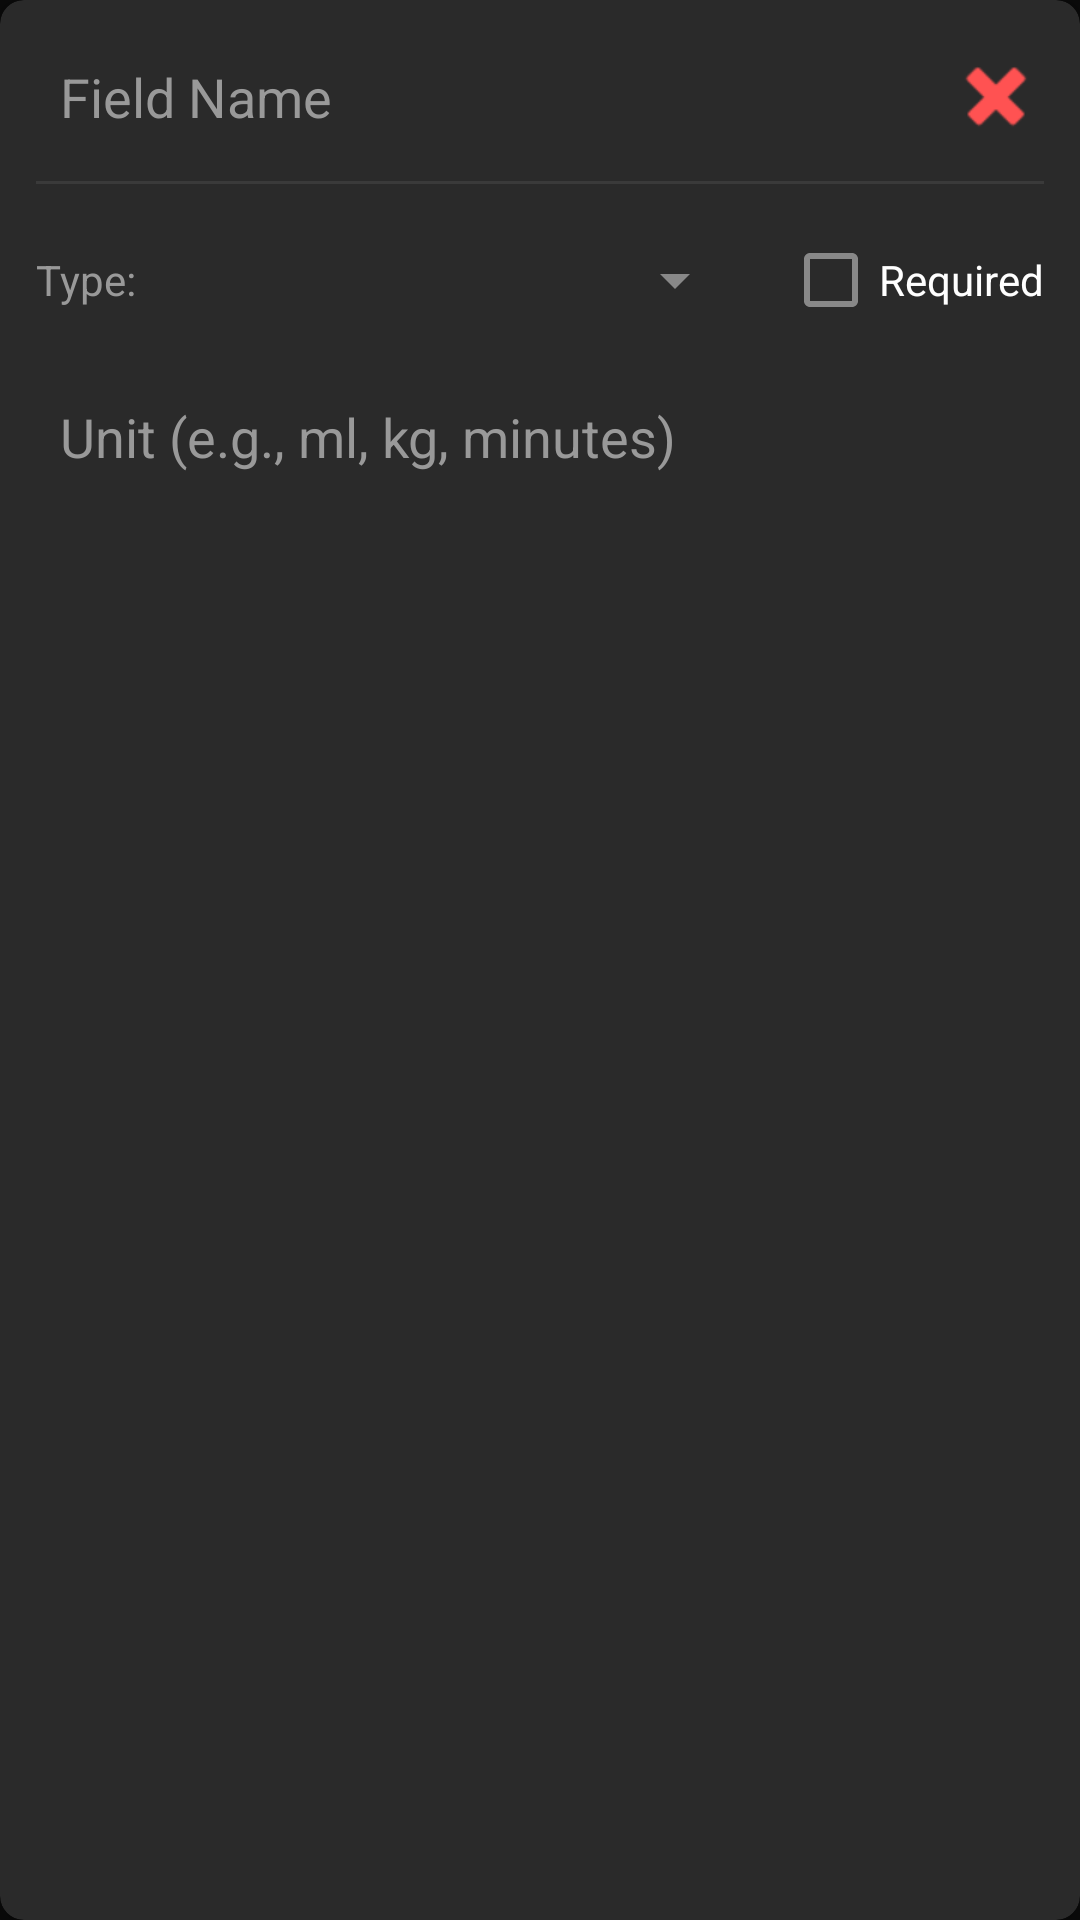

Screen size 1080px x 1920px. Icon name, then its box in pixels as (x1, y1, x2, y2):
delete: (965, 67, 1026, 126)
